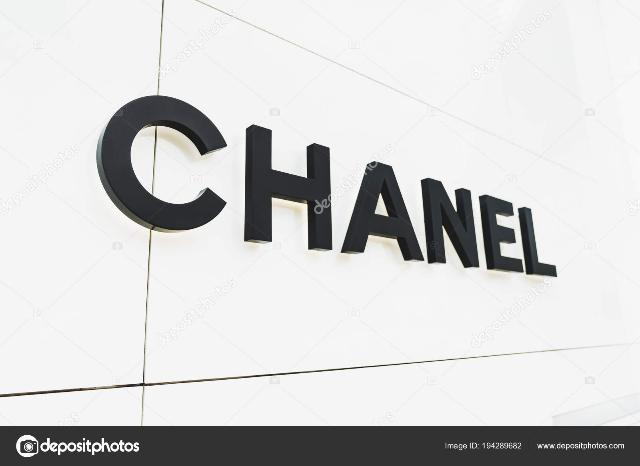Chanel: (85, 70, 562, 295)
